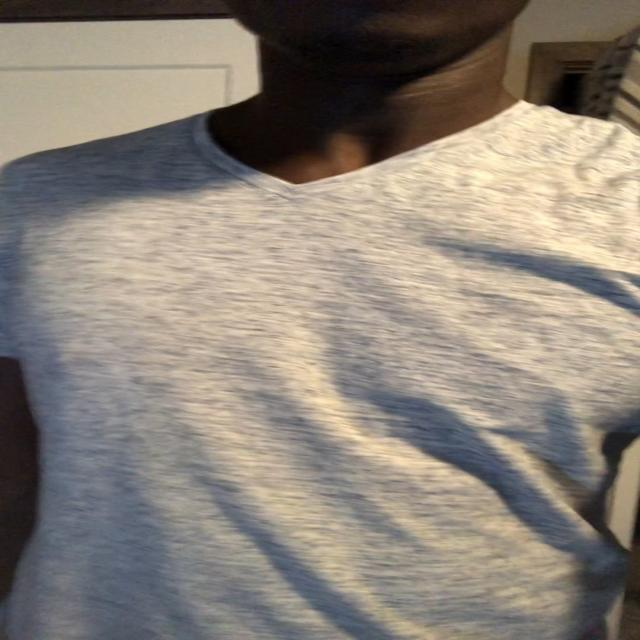face: (226, 0, 528, 59)
